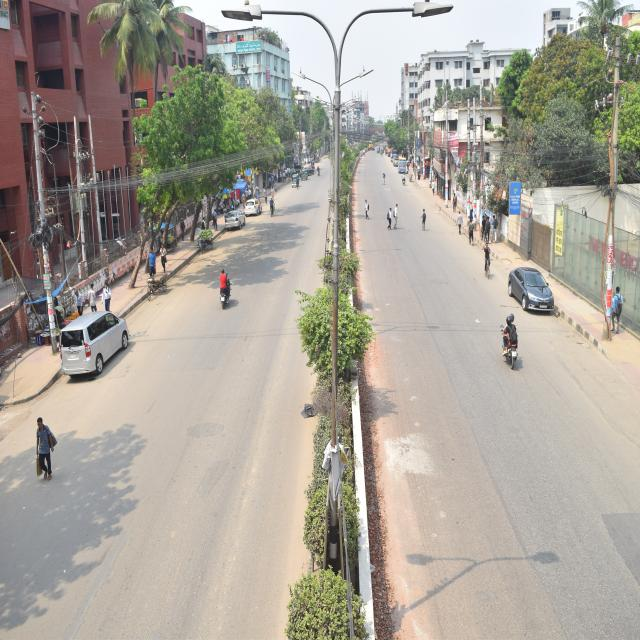car: (57, 303, 137, 395), (504, 258, 562, 319), (224, 205, 248, 239), (242, 194, 264, 226)
motorbike: (496, 312, 524, 374), (214, 264, 238, 314)
